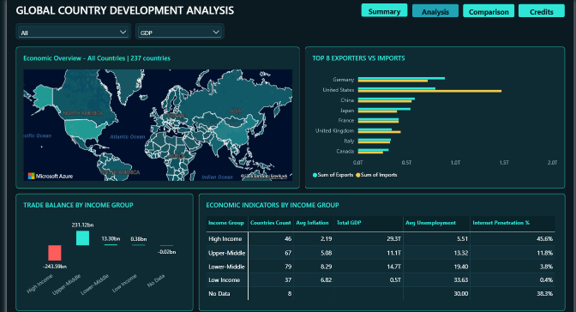

Layout of this report page (visuals, bound fields, positions):
{"tool":"powerbi","page":{"name":"Country Analysis","canvas":[1280,720],"ordinal":1},"visuals":[{"type":"textbox","box":[20,8,510.8,39.9],"z":0},{"type":"actionButton","box":[800,10,105,30],"z":1000},{"type":"actionButton","box":[1030,10.9,116.2,30.3],"z":2000},{"type":"actionButton","box":[915,10.9,105,30],"z":3000},{"type":"actionButton","box":[1154.5,10.9,105,30],"z":4000},{"type":"slicer","fields":{"Values":["Countries.Income Group"]},"box":[20,55,260,36],"z":5000},{"type":"slicer","fields":{"Values":["Metric Choice.Metric"]},"box":[290,55,200,36],"z":6000},{"type":"azureMap","fields":{"Category":["Countries.Country"]},"box":[20,108,640,320],"z":7000},{"type":"clusteredBarChart","title":"TOP 8 EXPORTERS VS IMPORTS","fields":{"Category":["Countries.Country"],"Y":["Sum(Countries.Exports)","Sum(Countries.Imports)"]},"box":[673,108,587,320],"z":8000},{"type":"clusteredColumnChart","title":"TRADE BALANCE BY INCOME GROUP","fields":{"Category":["Countries.Income Group"],"Y":["_Measures.Trade Balance"]},"box":[20,440,400,265],"z":9000},{"type":"pivotTable","title":"ECONOMIC INDICATORS BY INCOME GROUP","fields":{"Rows":["Countries.Income Group"],"Values":["_Measures.Countries Count","_Measures.Avg Inflation","_Measures.Total GDP","_Measures.Avg Unemployment","_Measures.Internet Penetration %"]},"box":[433,440,827,265],"z":10000}]}

Visuals, with their boxes on the page's 1280x720 design canvas (x1, y1, x2, y2). These are canvas units, not pixel positions in the 576x312 screenshot, which may show the page scaled, cropped or inside an application window:
textbox: rect(20, 8, 531, 48)
actionButton: rect(800, 10, 905, 40)
actionButton: rect(1030, 11, 1146, 41)
actionButton: rect(915, 11, 1020, 41)
actionButton: rect(1154, 11, 1260, 41)
slicer - Countries.Income Group: rect(20, 55, 280, 91)
slicer - Metric Choice.Metric: rect(290, 55, 490, 91)
azureMap - Countries.Country: rect(20, 108, 660, 428)
"TOP 8 EXPORTERS VS IMPORTS" clusteredBarChart: rect(673, 108, 1260, 428)
"TRADE BALANCE BY INCOME GROUP" clusteredColumnChart: rect(20, 440, 420, 705)
"ECONOMIC INDICATORS BY INCOME GROUP" pivotTable: rect(433, 440, 1260, 705)
